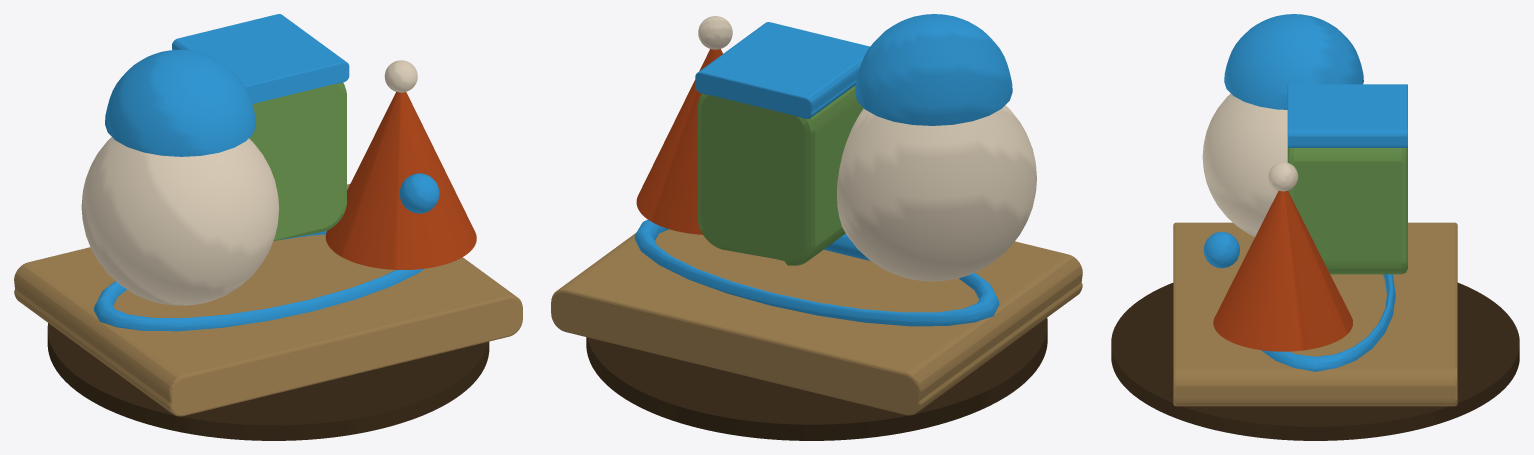
File: 0517_生活中的化学图鉴_溶解仪器.glb
3 views of the same model, side by side, from view 1: azimuth 30°, elevation 25°; view 2: azimuth 150°, elevation 25°; view 3: azimuth 270°, elevation 25° (orthographic). The views are drawn at different scales.
Parts seen in each view (by area): view 1: card_0517; view 2: card_0517; view 3: card_0517.
Part boxes in pixels (x1,y1,x2,y2): card_0517: (14,14,522,440); card_0517: (551,14,1082,440); card_0517: (1111,14,1519,440).
Bounding box in the file's own units: 1.23 × 1 × 1.27.
